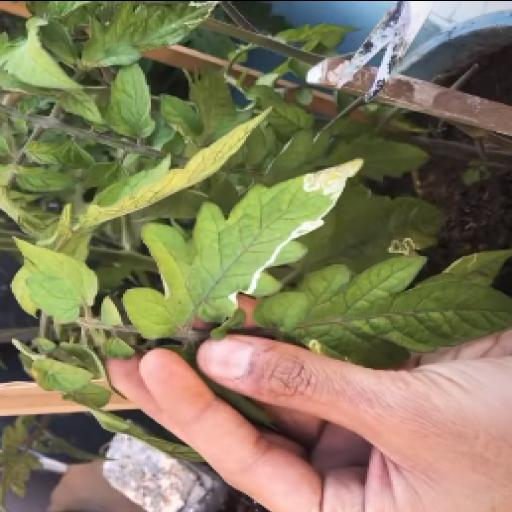disease_tomato: (115, 156, 365, 346)
